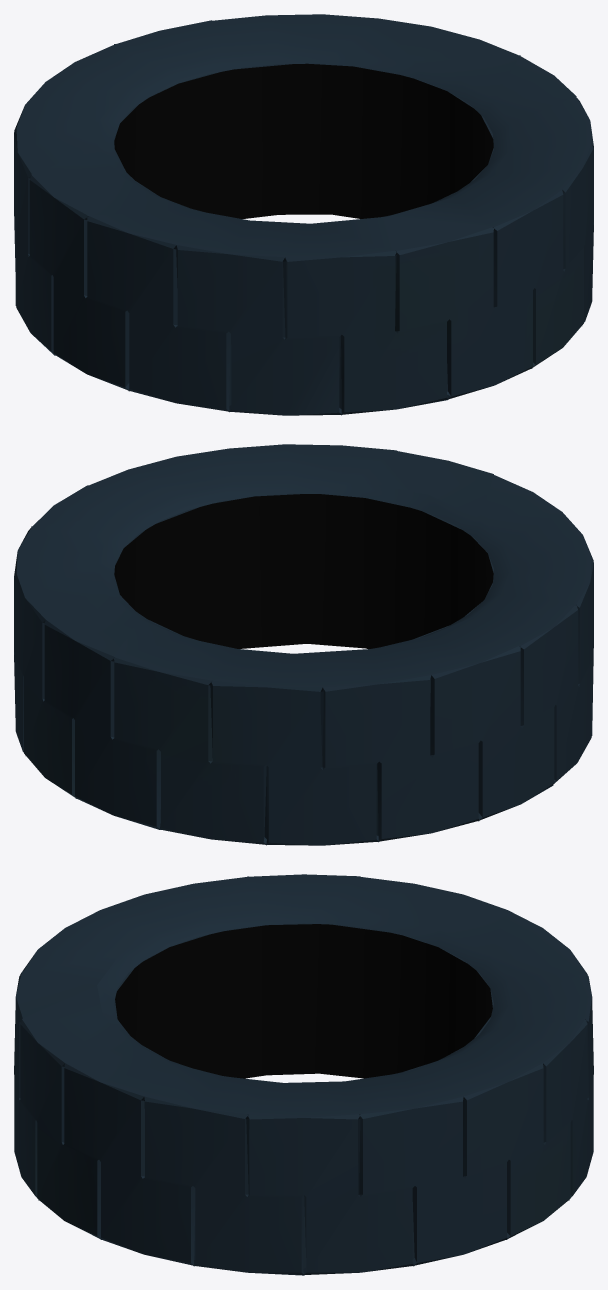
File: Pneus.glb
3 views of the same model, one above another, from view 1: azimuth 30°, elevation 25°; view 2: azimuth 150°, elevation 25°; view 3: azimuth 270°, elevation 25° (orthographic).
Parts seen in each view (by area): view 1: Pneus; view 2: Pneus; view 3: Pneus.
Boxes of the visible parts, x1=… form: Pneus: x1=14, y1=14, x2=593, y2=415; Pneus: x1=14, y1=444, x2=593, y2=845; Pneus: x1=14, y1=874, x2=593, y2=1275.
Size of the model in its own units: 2.15 by 0.6483 by 2.15.
Materials: 1 (1 with a texture image).
